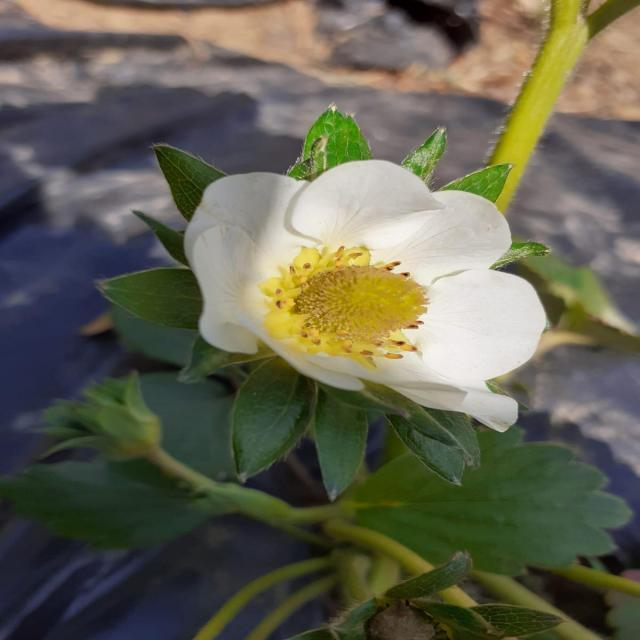flower: (168, 142, 566, 442)
